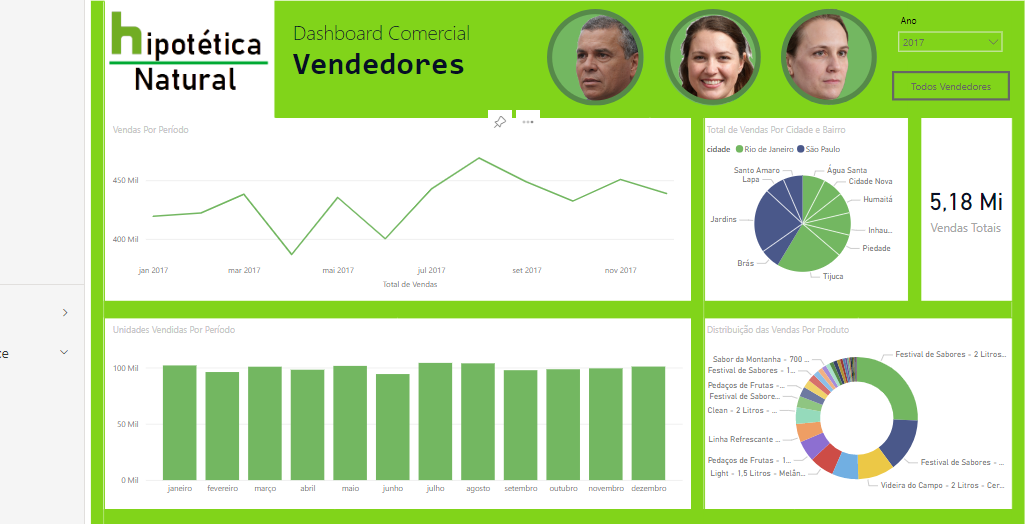

The page's visual inventory and layout, read from the dashboard file:
{"tool":"powerbi","page":{"name":"Página 3","canvas":[1280,720],"ordinal":0},"visuals":[{"type":"image","box":[0,0,1281,722.2],"z":0},{"type":"textbox","box":[276.5,24.5,341.3,126.7],"z":1000},{"type":"shape","box":[627.8,16.3,130,130],"z":2000},{"type":"image","box":[628,16,152.5,139.2],"z":3000},{"type":"shape","box":[626.9,16.4,131.3,131.3],"z":4000},{"type":"shape","box":[785.6,17.1,130.6,129.9],"z":5000},{"type":"image","box":[787.8,17.1,138.8,134.3],"z":6000},{"type":"shape","box":[786.3,16.4,129.9,129.9],"z":7000},{"type":"shape","box":[943.8,15.7,130,130],"z":8000},{"type":"image","box":[893.1,8.6,202.1,145],"z":9000},{"type":"shape","box":[943.8,15.7,130,130],"z":10000},{"type":"slicer","title":"Segmentação de Dados","fields":{"Values":["Consulta1.DATA_VENDA.Variation.Hierarquia de datas.Ano"]},"box":[1093,18.7,161.3,82.1],"z":11000},{"type":"lineChart","title":"Vendas Por Período","fields":{"Category":["Consulta1.DATA_VENDA.Variation.Hierarquia de datas.Ano","Consulta1.DATA_VENDA.Variation.Hierarquia de datas.Mês"],"Y":["Sum(Consulta1.valor)"]},"box":[33.1,171.4,783.4,230.4],"z":11001},{"type":"clusteredColumnChart","title":"Unidades Vendidas Por Período","fields":{"Y":["Sum(Consulta1.quantidade)"],"Category":["Consulta1.DATA_VENDA.Variation.Hierarquia de datas.Ano","Consulta1.DATA_VENDA.Variation.Hierarquia de datas.Mês"]},"box":[33.1,442.1,783.4,241.9],"z":11002},{"type":"card","fields":{"Values":["Sum(Consulta1.valor)"]},"box":[1133.9,171.3,120.9,230.1],"z":11003},{"type":"donutChart","title":"Distribuição das Vendas Por Produto","fields":{"Category":["Consulta1.NOME_DO_PRODUTO"],"Y":["Sum(Consulta1.valor)"]},"box":[838.2,441.8,416.6,241.9],"z":11004},{"type":"pieChart","title":"Total de Vendas Por Cidade e Bairro","fields":{"Category":["Consulta1.cidade"],"Y":["Sum(Consulta1.valor)"],"Series":["Consulta1.bairro"]},"box":[838.2,171.3,270.4,230.1],"z":11005},{"type":"actionButton","box":[1094.4,100.8,159.8,40.3],"z":11006}]}

Visuals, with their boxes on the page's 1280x720 design canvas (x1, y1, x2, y2). These are canvas units, not pixel positions in the 1026x524 screenshot, which may show the page scaled, cropped or inside an application window:
image: bbox=(0, 0, 1281, 722)
textbox: bbox=(276, 24, 618, 151)
shape: bbox=(628, 16, 758, 146)
image: bbox=(628, 16, 780, 155)
shape: bbox=(627, 16, 758, 148)
shape: bbox=(786, 17, 916, 147)
image: bbox=(788, 17, 927, 151)
shape: bbox=(786, 16, 916, 146)
shape: bbox=(944, 16, 1074, 146)
image: bbox=(893, 9, 1095, 154)
shape: bbox=(944, 16, 1074, 146)
"Segmentação de Dados" slicer: bbox=(1093, 19, 1254, 101)
"Vendas Por Período" lineChart: bbox=(33, 171, 816, 402)
"Unidades Vendidas Por Período" clusteredColumnChart: bbox=(33, 442, 816, 684)
card - Sum(Consulta1.valor): bbox=(1134, 171, 1255, 401)
"Distribuição das Vendas Por Produto" donutChart: bbox=(838, 442, 1255, 684)
"Total de Vendas Por Cidade e Bairro" pieChart: bbox=(838, 171, 1109, 401)
actionButton: bbox=(1094, 101, 1254, 141)
